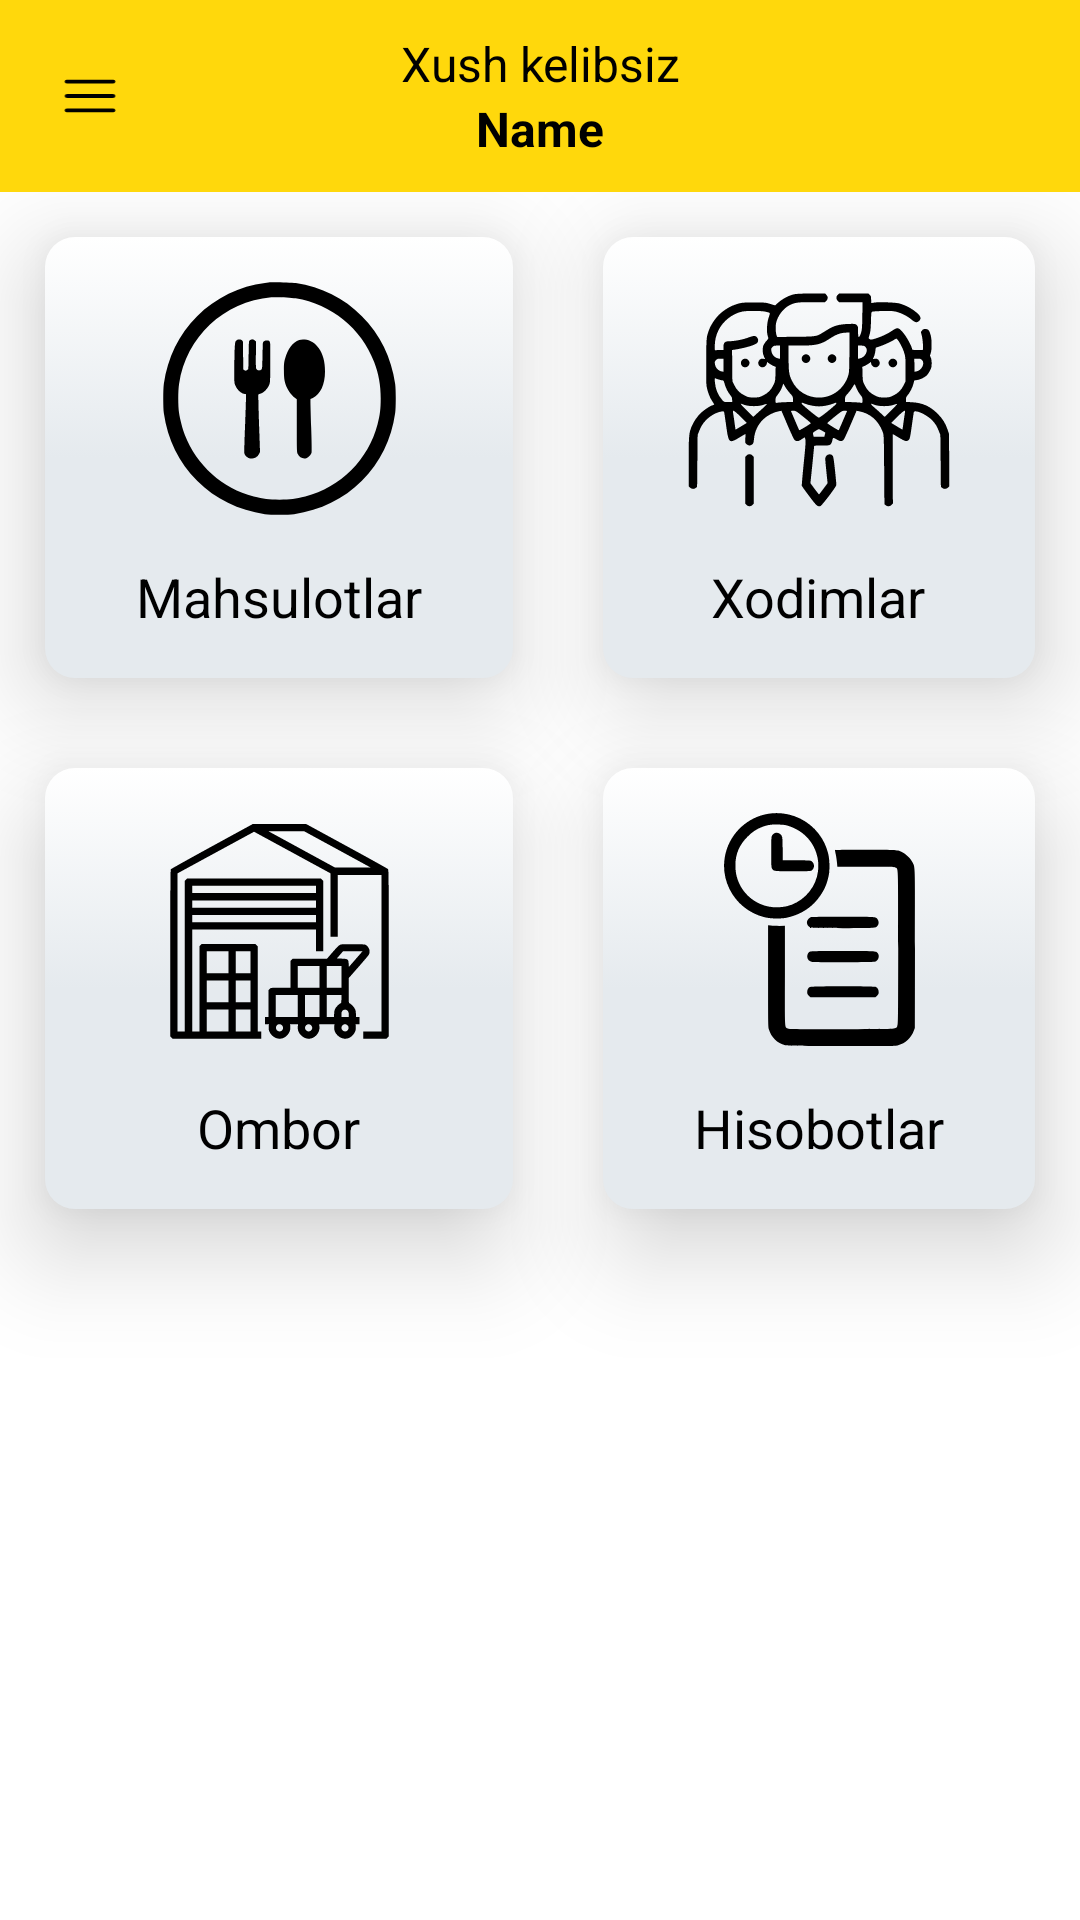

Screen size 1080 × 1920. Icon name, then its center in pixels as (x,y):
hamburger: (90,96)
